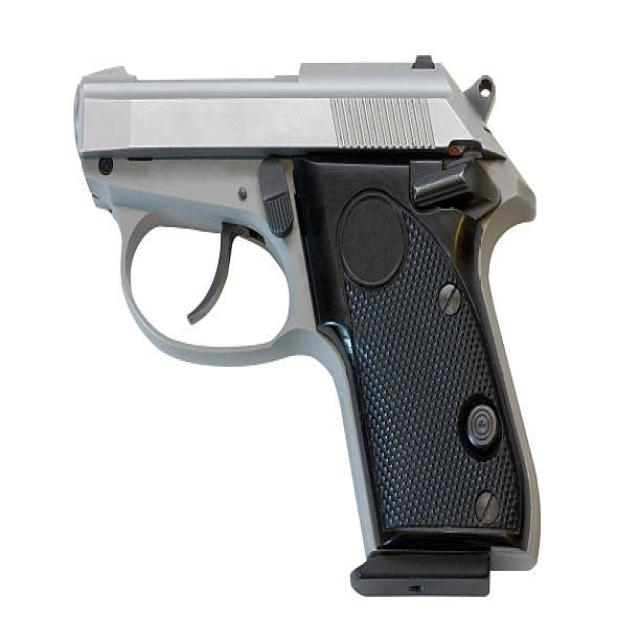pistol: (64, 41, 549, 611)
